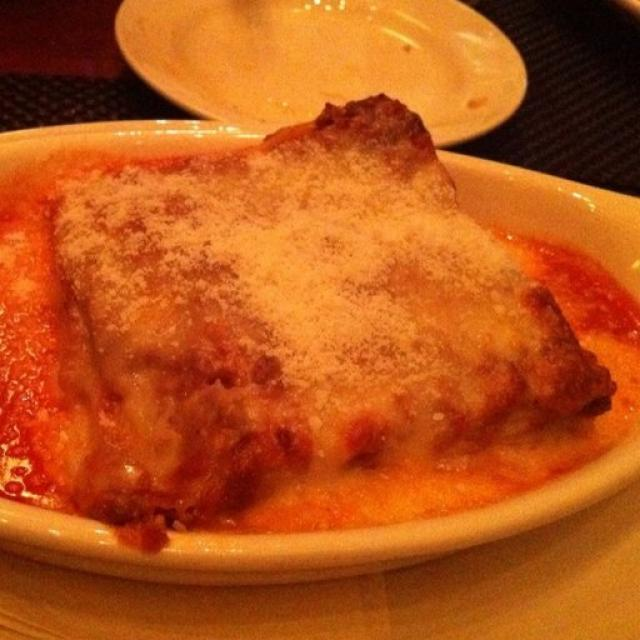Lasagna: (39, 100, 640, 551)
